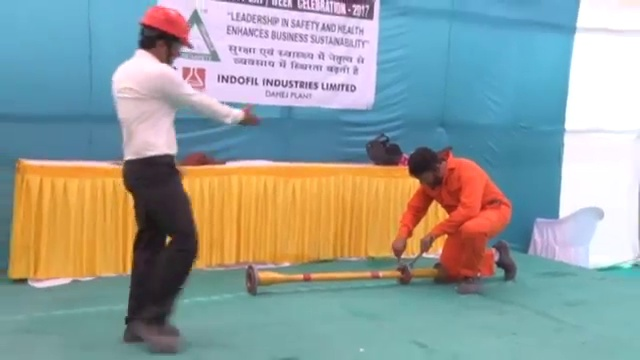helmet: (136, 4, 196, 49)
helmet_off: (409, 146, 446, 187)
helmet_on: (135, 3, 197, 71)
person: (107, 2, 265, 352), (394, 146, 520, 293)
